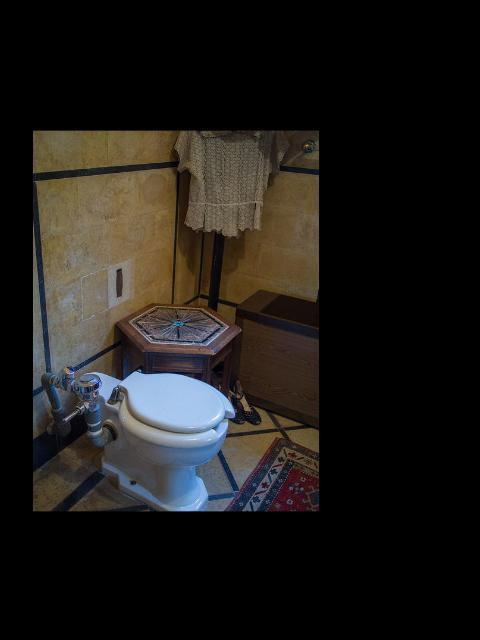Sanitario: (64, 358, 238, 510)
